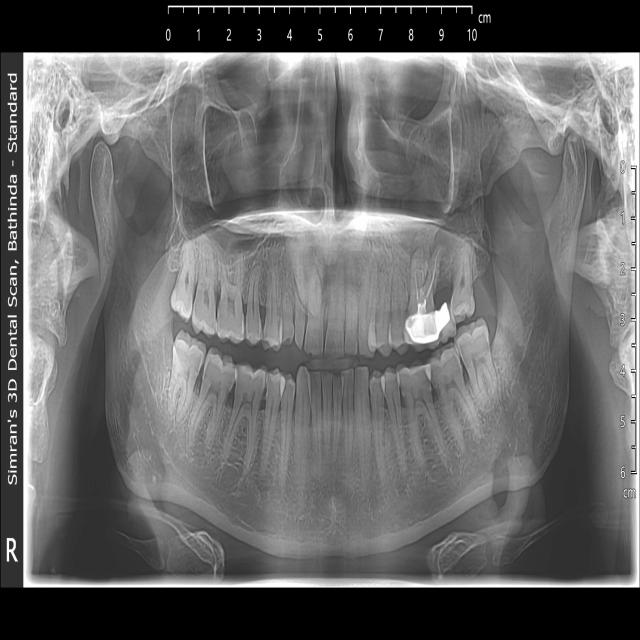Crown: (410, 303, 450, 343)
Filling: (449, 293, 473, 322)
Missing teeth: (438, 274, 451, 299)
Root Canal Treatment: (405, 246, 450, 353)
